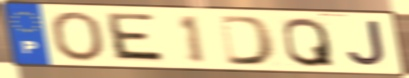1: (177, 13, 206, 65)
D: (217, 14, 279, 67)
E: (105, 11, 169, 65)
J: (345, 19, 387, 69)
O: (48, 10, 108, 63)
Q: (281, 16, 337, 69)
